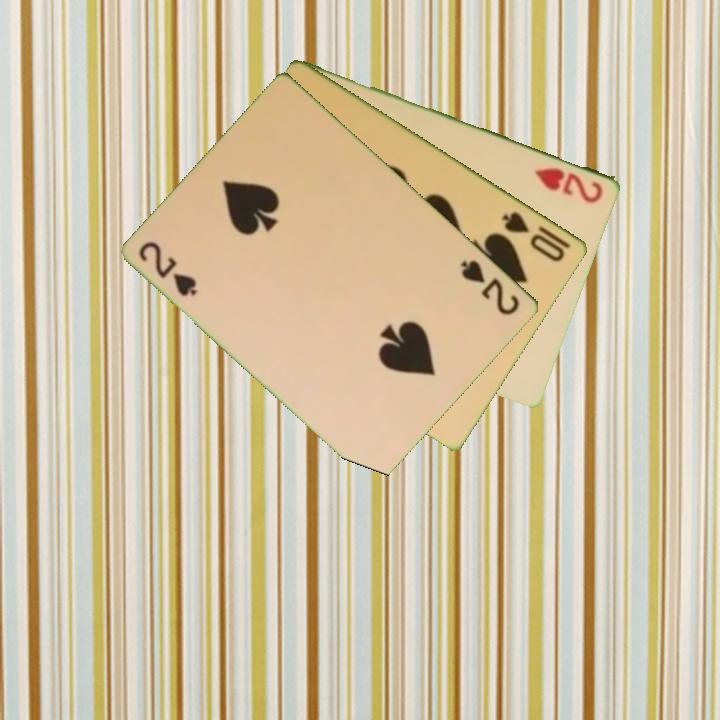10s: (498, 208, 569, 265)
2h: (531, 164, 607, 206)
2s: (135, 237, 201, 300), (457, 256, 524, 318)
